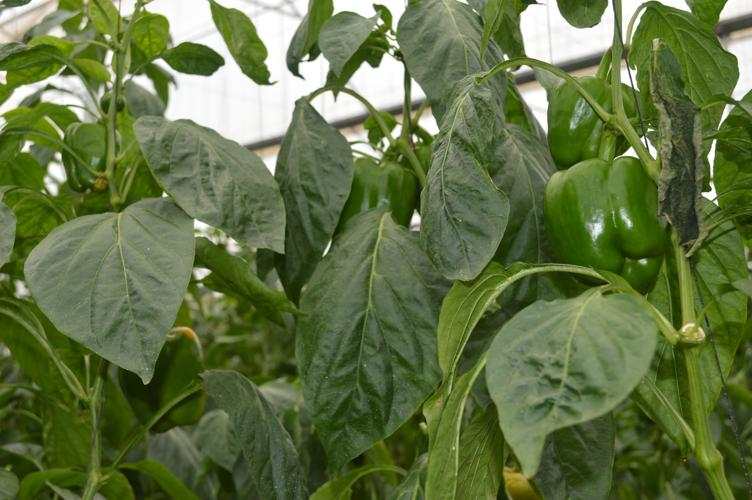BellPepper: (530, 160, 671, 297), (109, 331, 216, 431), (537, 53, 633, 158), (328, 144, 423, 239)
